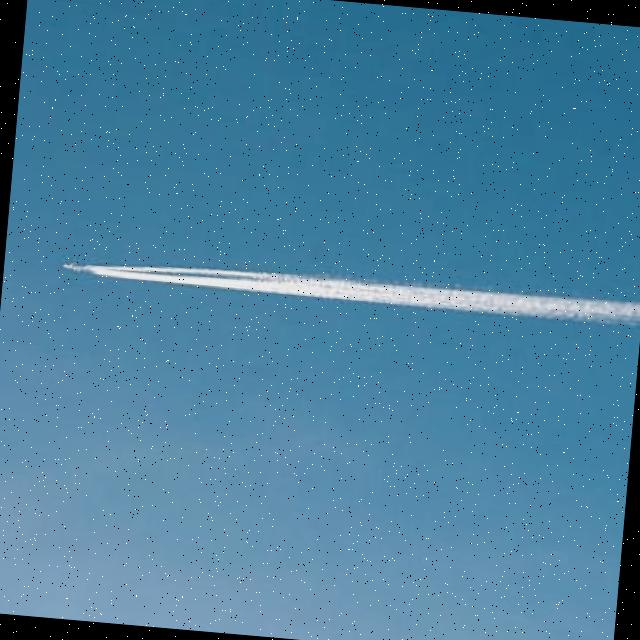Ct: (86, 244, 640, 350)
